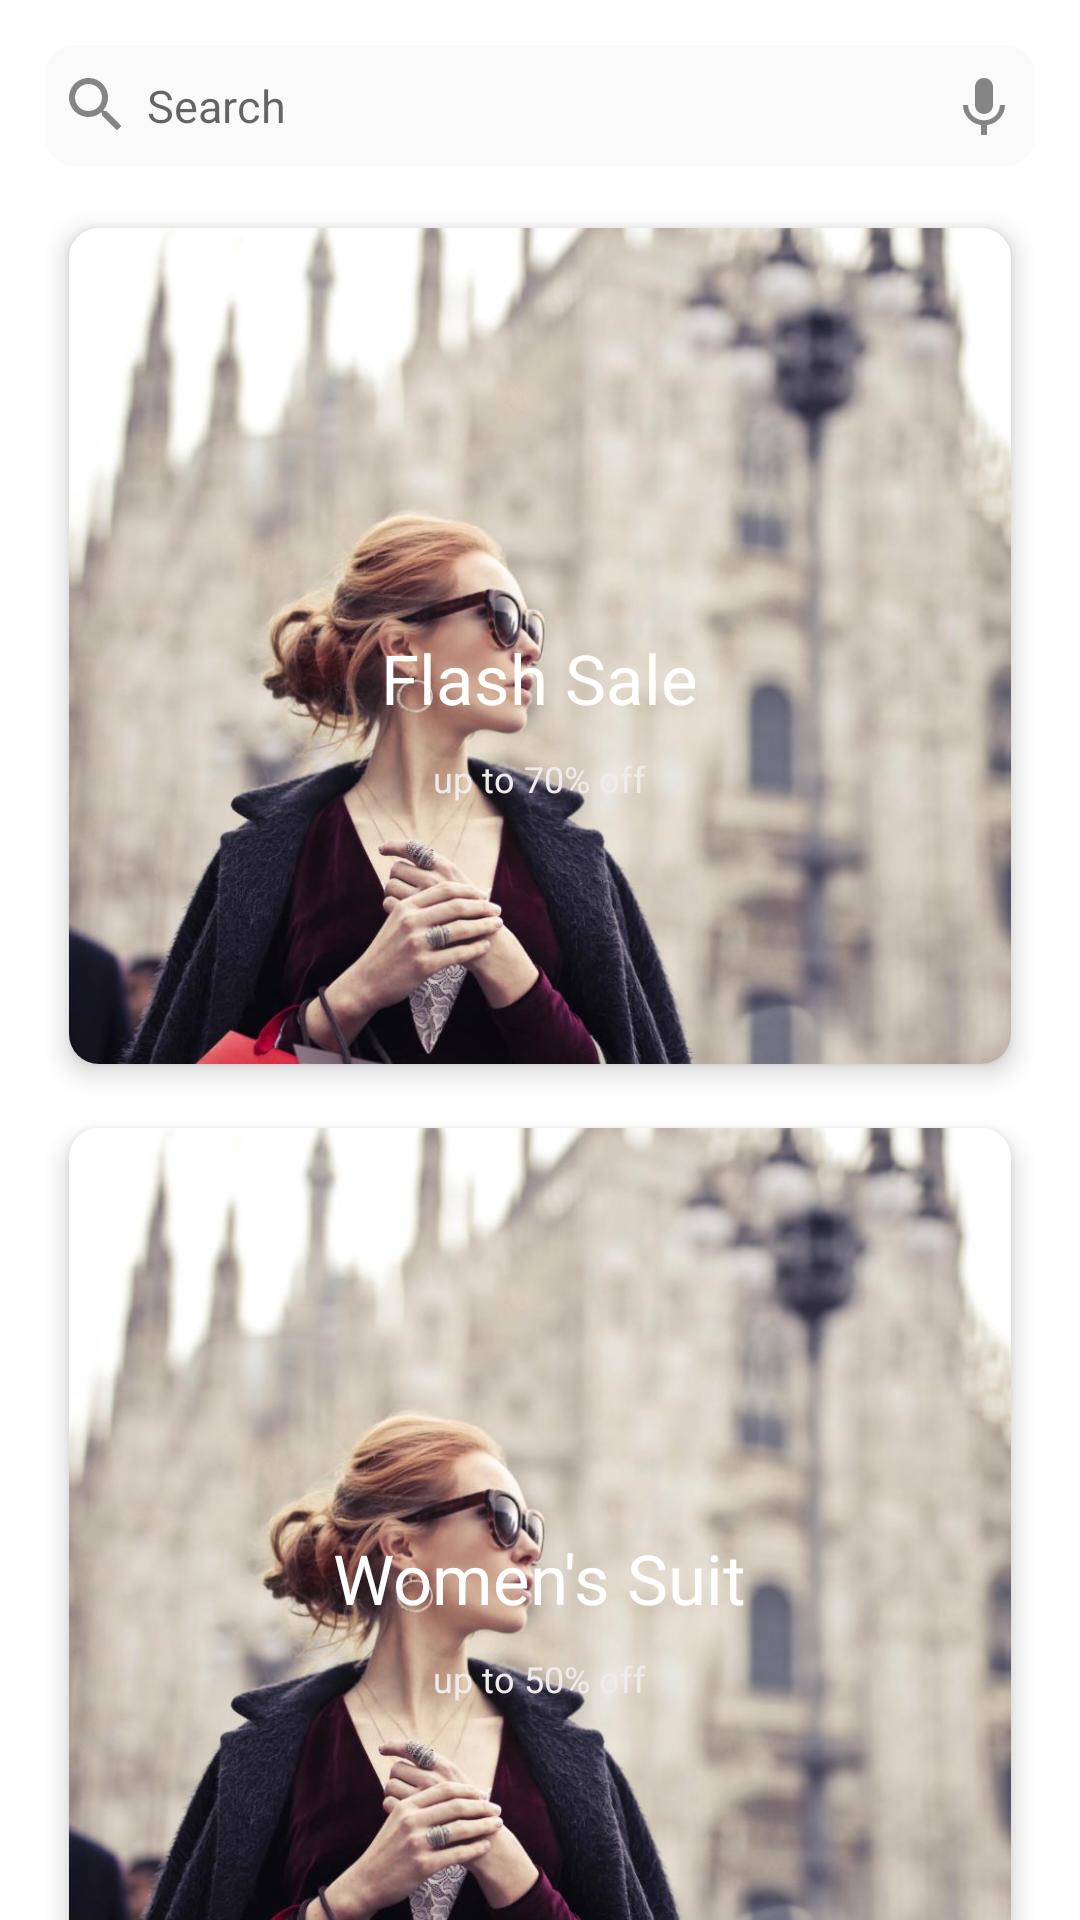

Screen size 1080x1920. Icon name, then its center in pixels as (x=x, y=y):
keyboard voice: (x=984, y=106)
